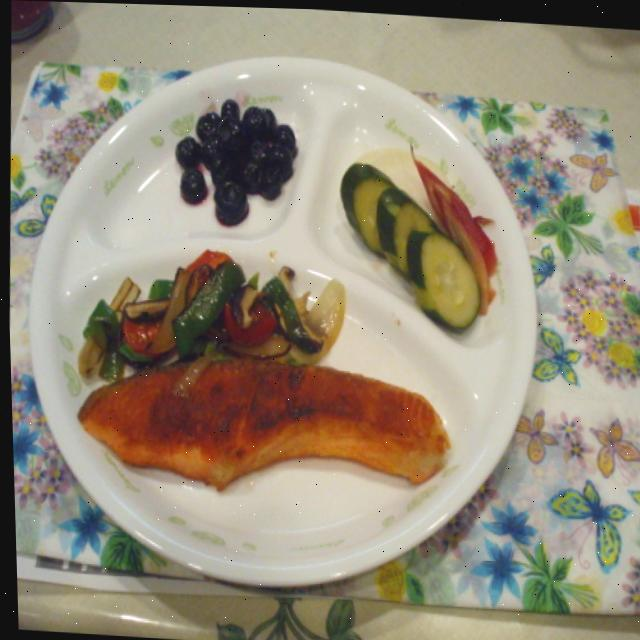熟制海鲜: (68, 339, 461, 521)
